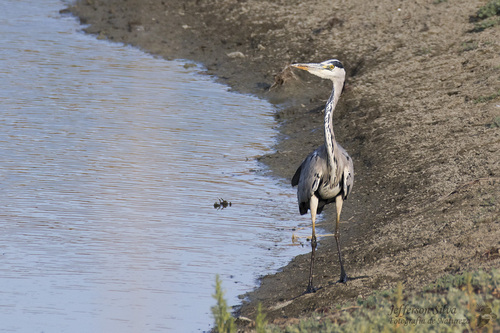heron: (290, 58, 357, 297)
